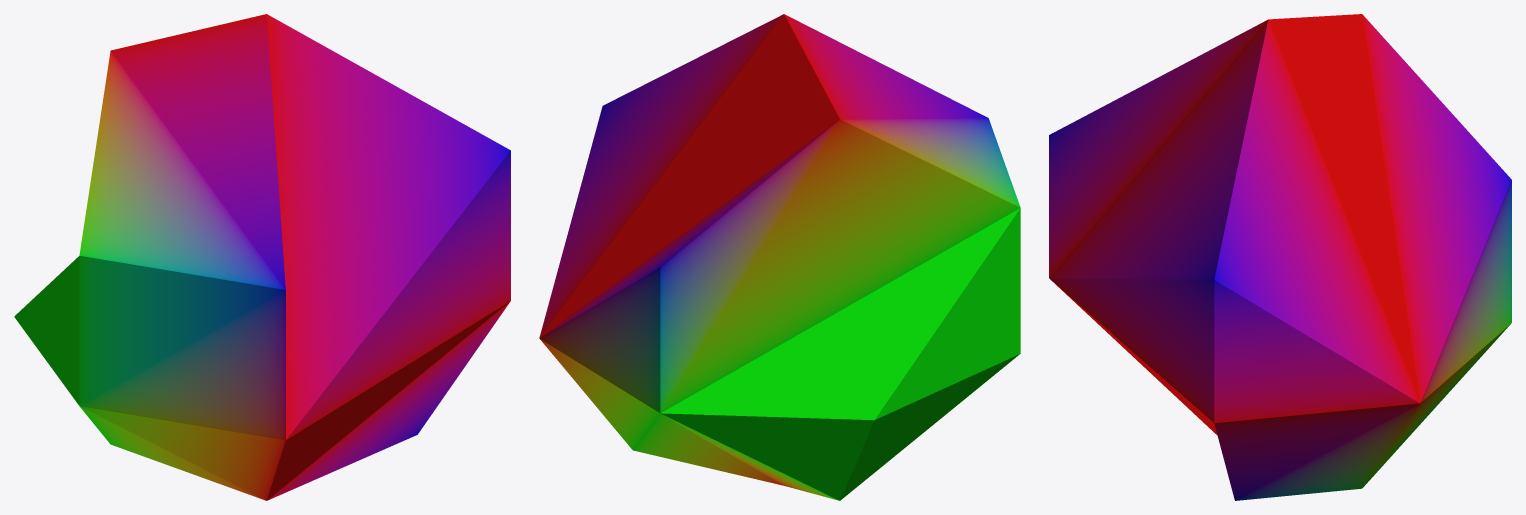
File: after_decimating_conquest_4_3.obj
3 renders of one model, left to right at view 1: azimuth 30°, elevation 25°; view 2: azimuth 150°, elevation 25°; view 3: azimuth 270°, elevation 25°, orthographic. The views are drawn at different scales.
Bounding box in the file's own units: 1.85 × 2 × 1.81.
